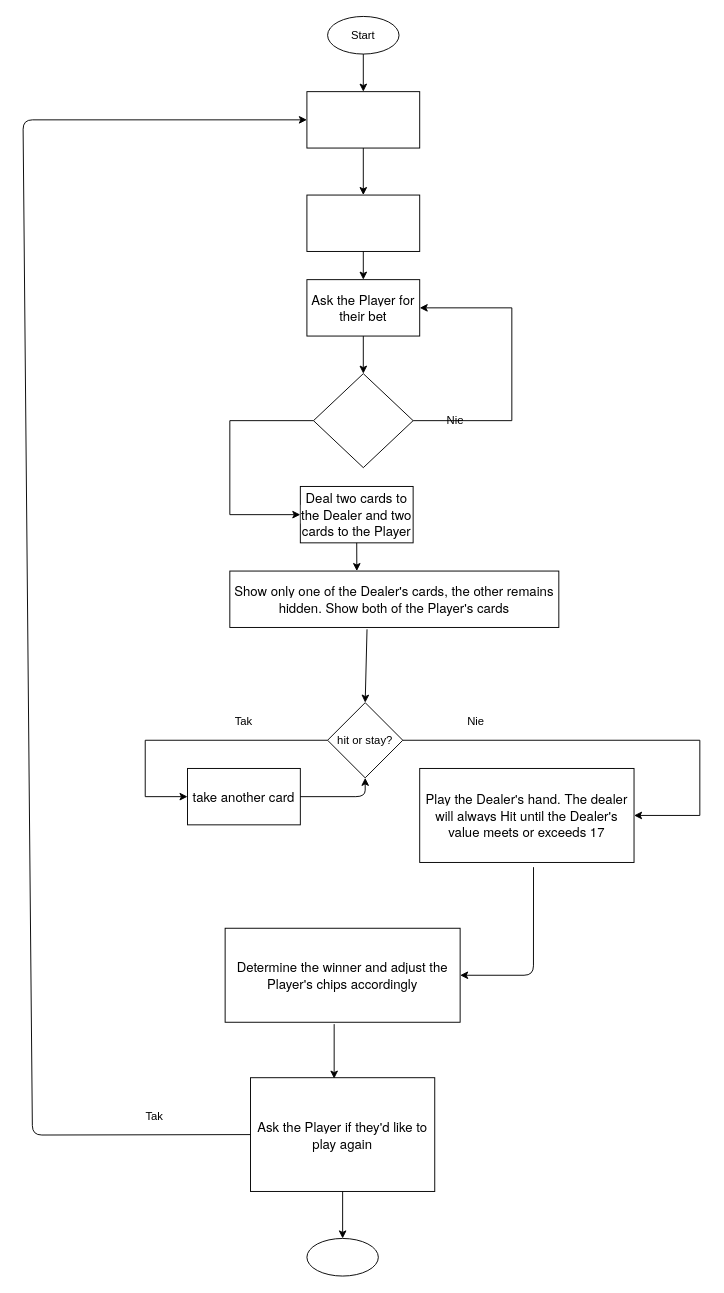
Some shapes in this 724 by 1293 pixel diagram are drawn without their labels. Each missing label, with the centre of its shape:
"Create a deck of 52 cards" goes at [363,119].
"Jesli wystarczajaca ilosc funduszy" goes at [363,420].
"Koniec" goes at [342,1257].
"Shuffle the deck" goes at [363,222].
